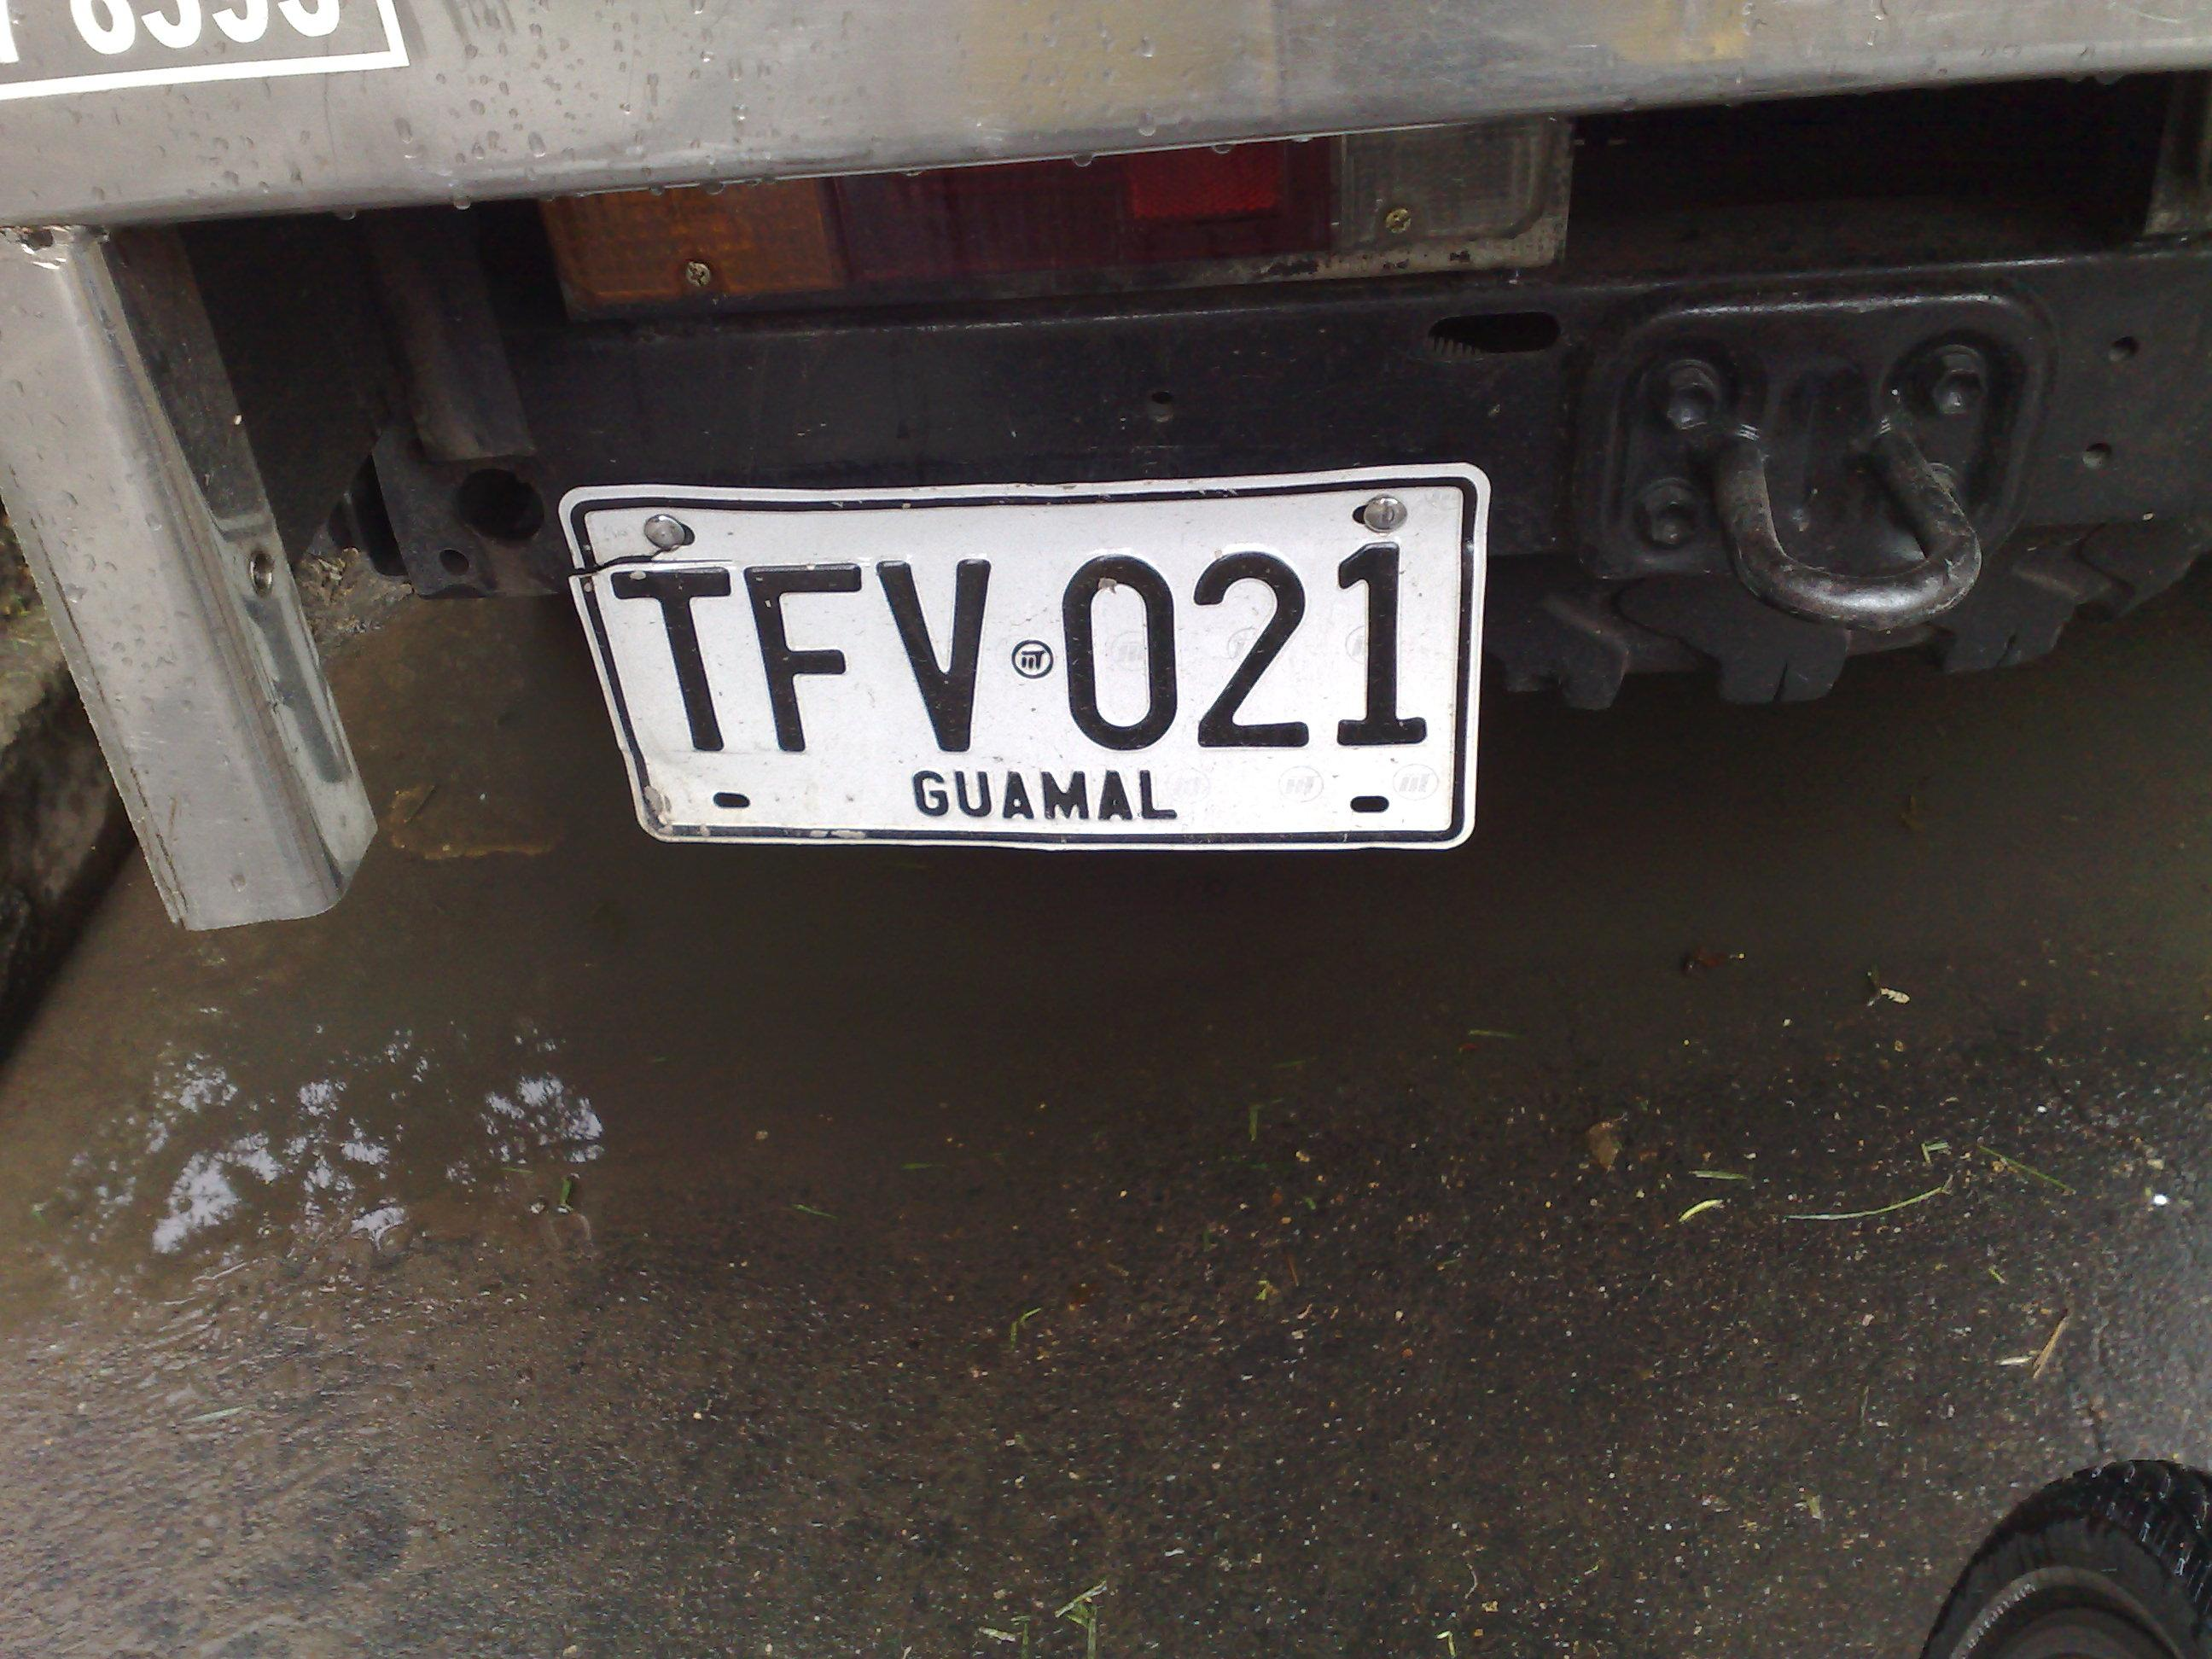placas: (548, 454, 1494, 859)
